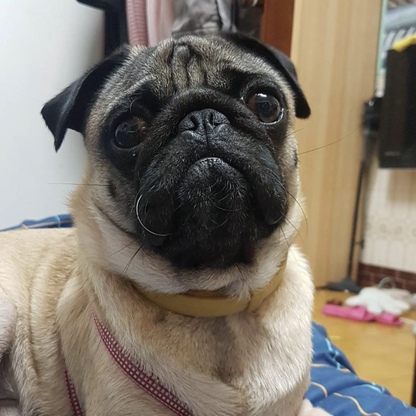Pug: (1, 25, 324, 416)
